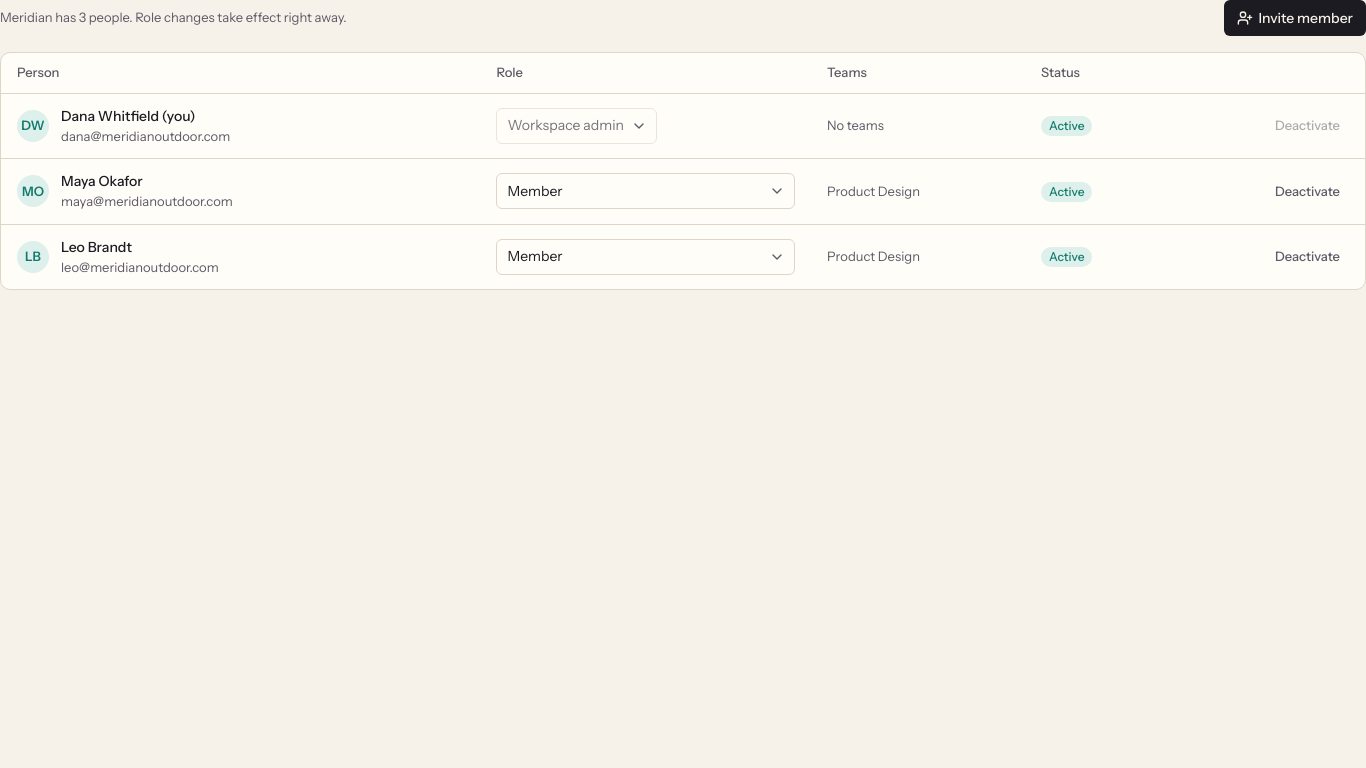
Test: MembersTab › asks for a company when inviting a guest
Click the button "Invite member" at {"x": 1295, "y": 18}, box top-left (1224, 0), bottom-right (1365, 36)
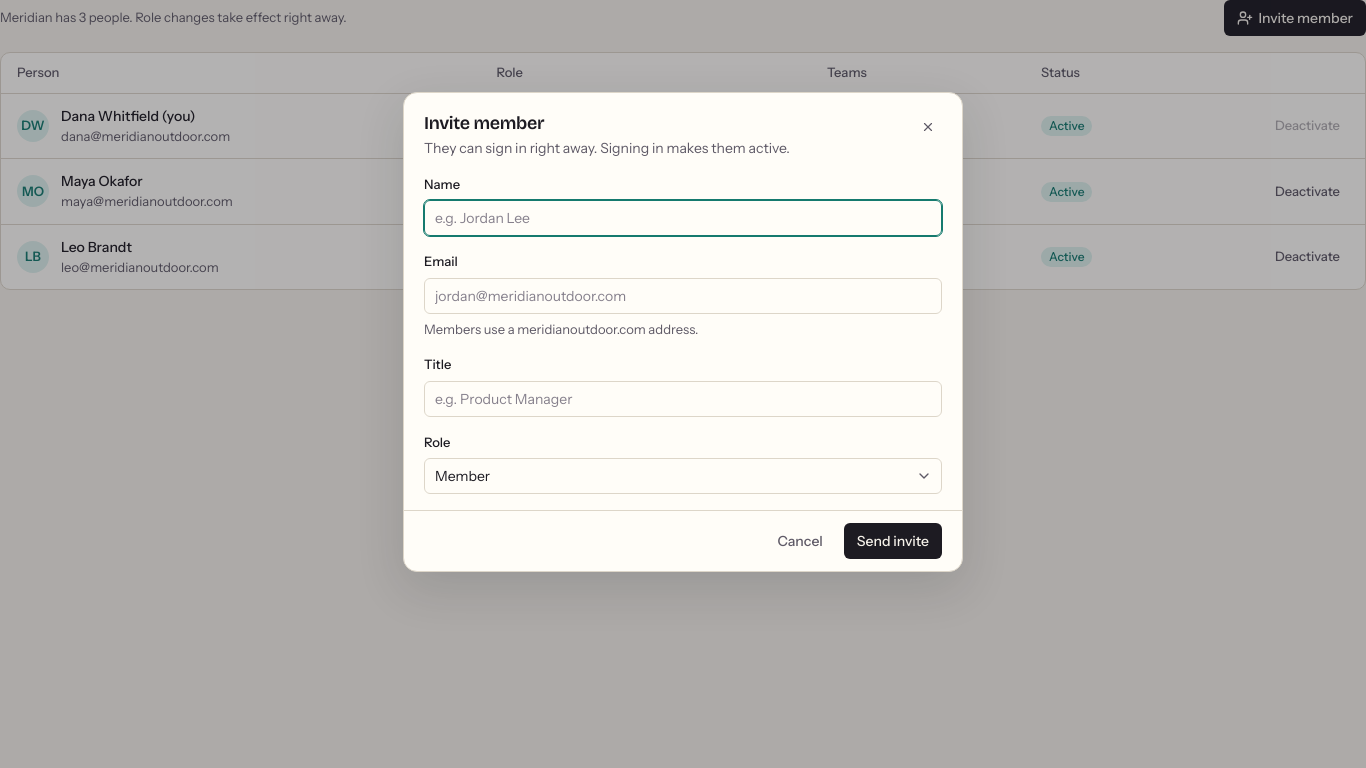
Expected: the field labelled "Company" is not shown
Select "Guest" in the dropdown labelled "Role" at {"x": 683, "y": 476}, box top-left (424, 458), bottom-right (942, 494)
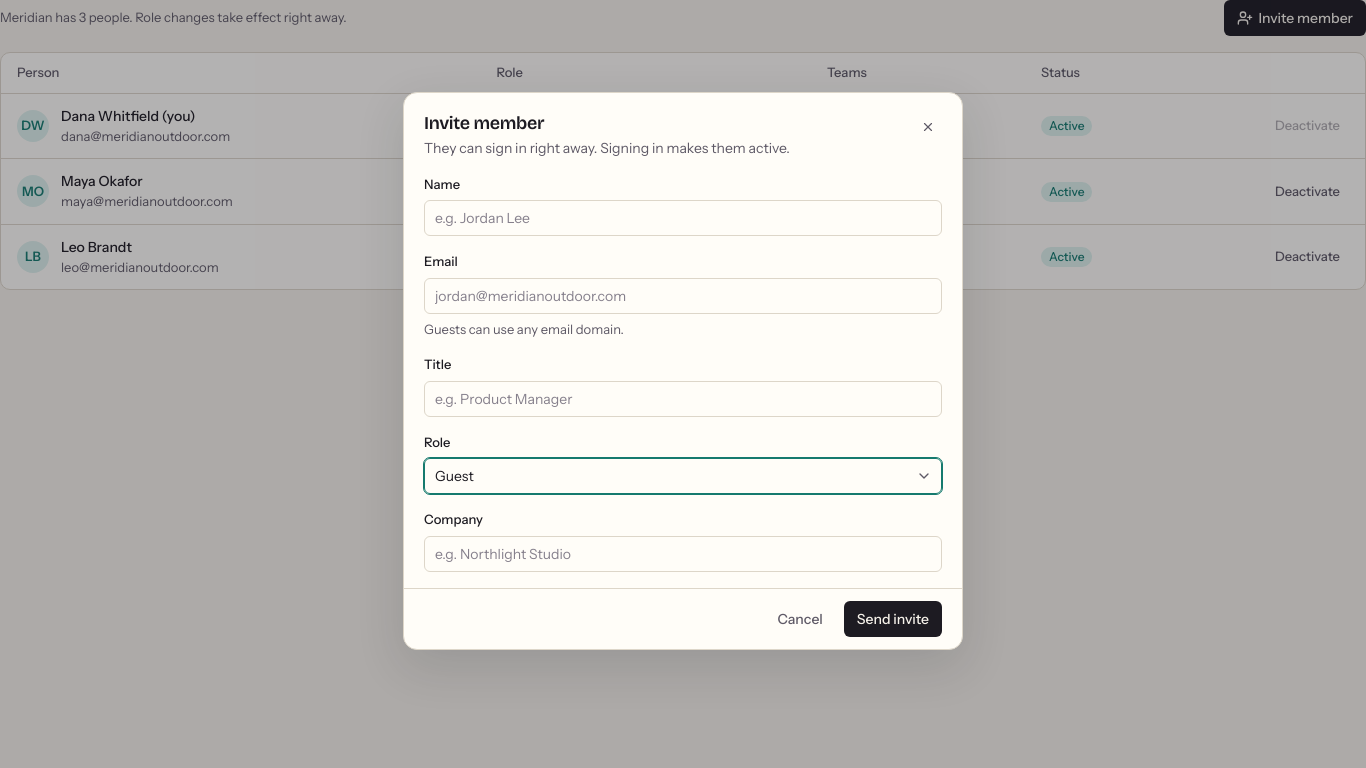
Expected: the field labelled "Company" is shown, top-left (424, 536), bottom-right (942, 572)
